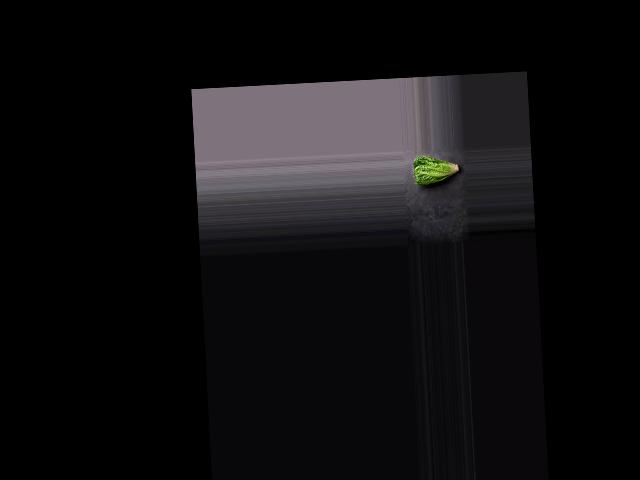lettuce: (412, 152, 463, 187)
